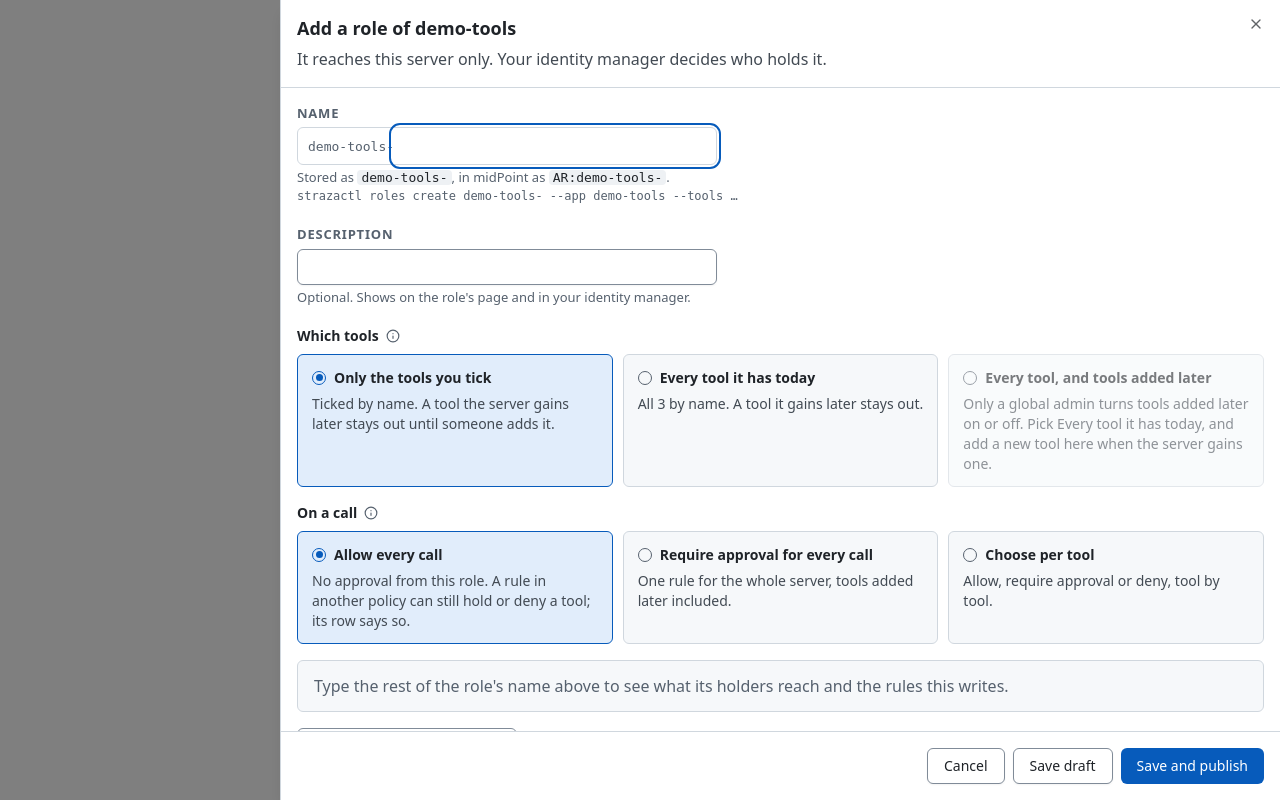
Test: the Add role sheet of a server › refuses Save draft over the buttons when the check answers the name as a live role, and stores nothing
Type "readers" into the field named "role name suffix". click: (555, 146)
box: top-left (394, 128), bottom-right (716, 164)
(page scrolled)
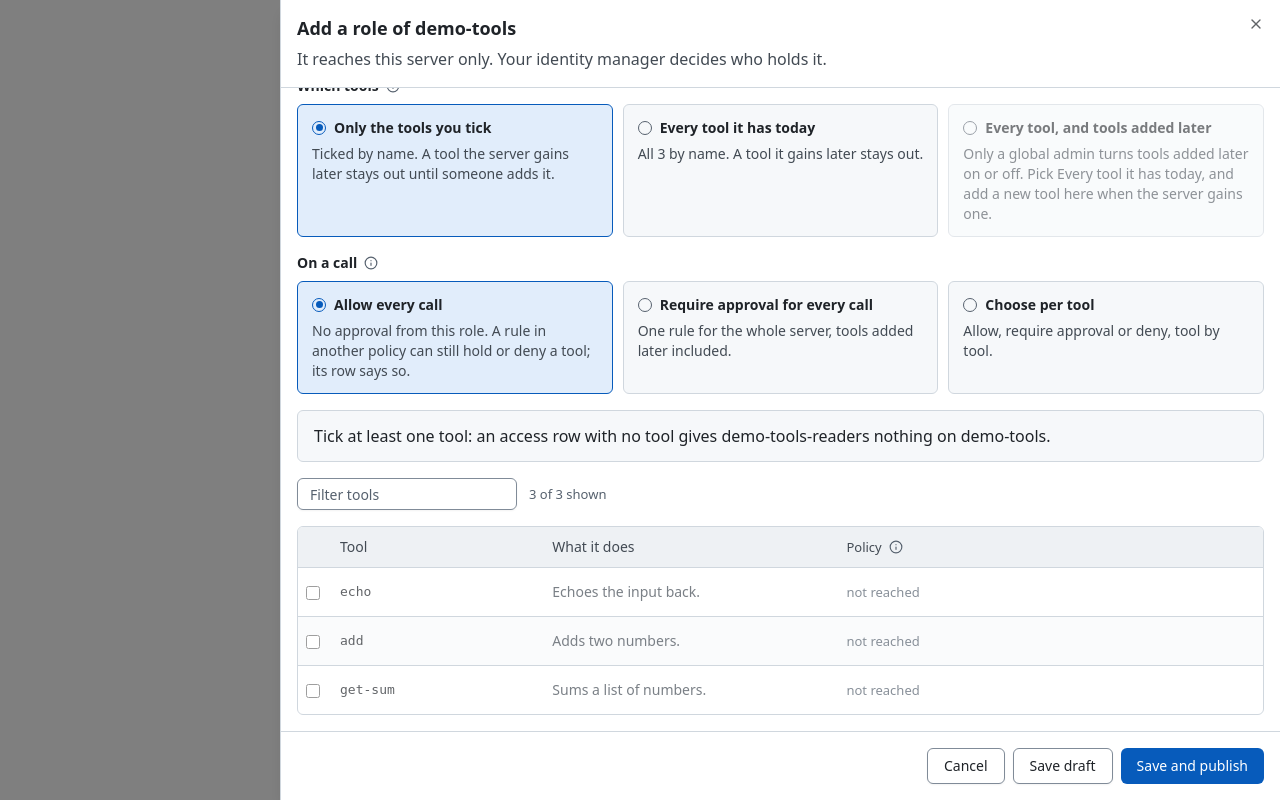
Click the checkbox named "tool echo". click: (313, 593)
box: top-left (306, 586), bottom-right (320, 600)
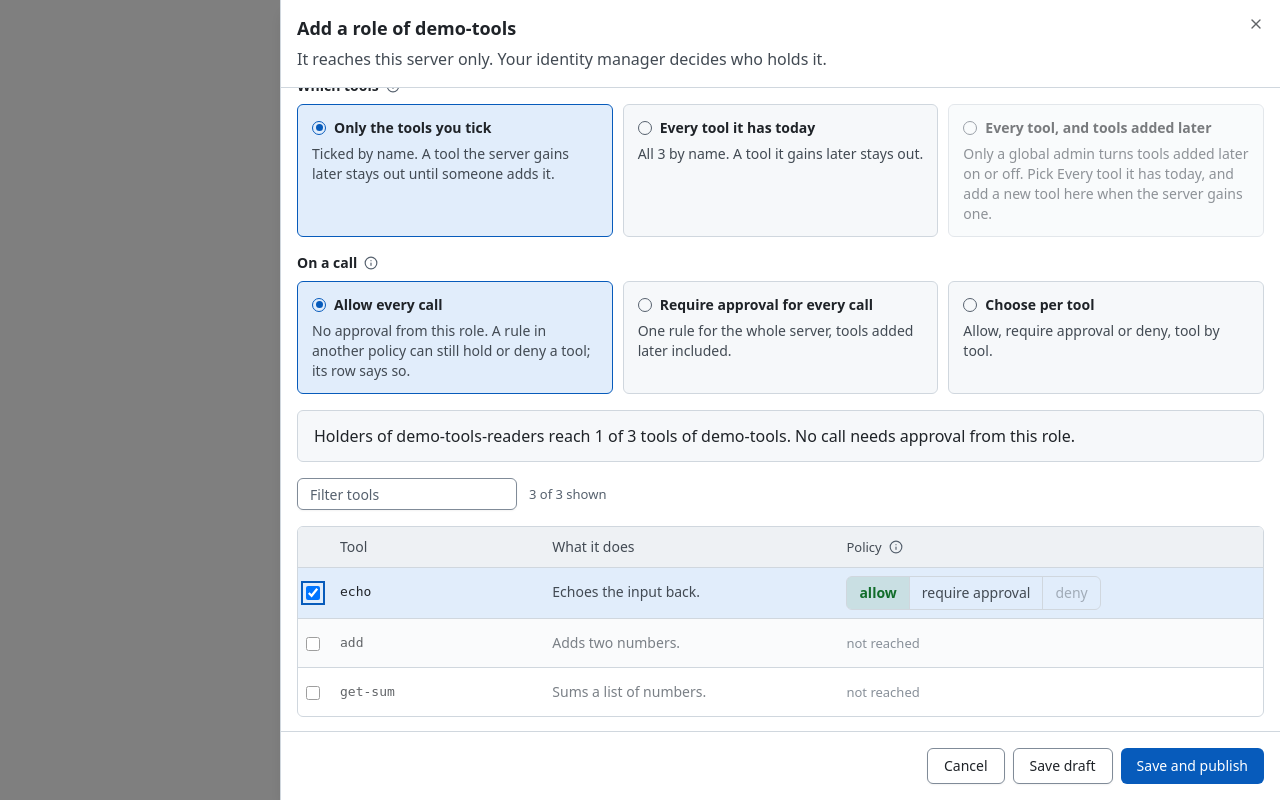
Click the button "Save draft". click: (1063, 766)
box: top-left (1013, 748), bottom-right (1113, 784)
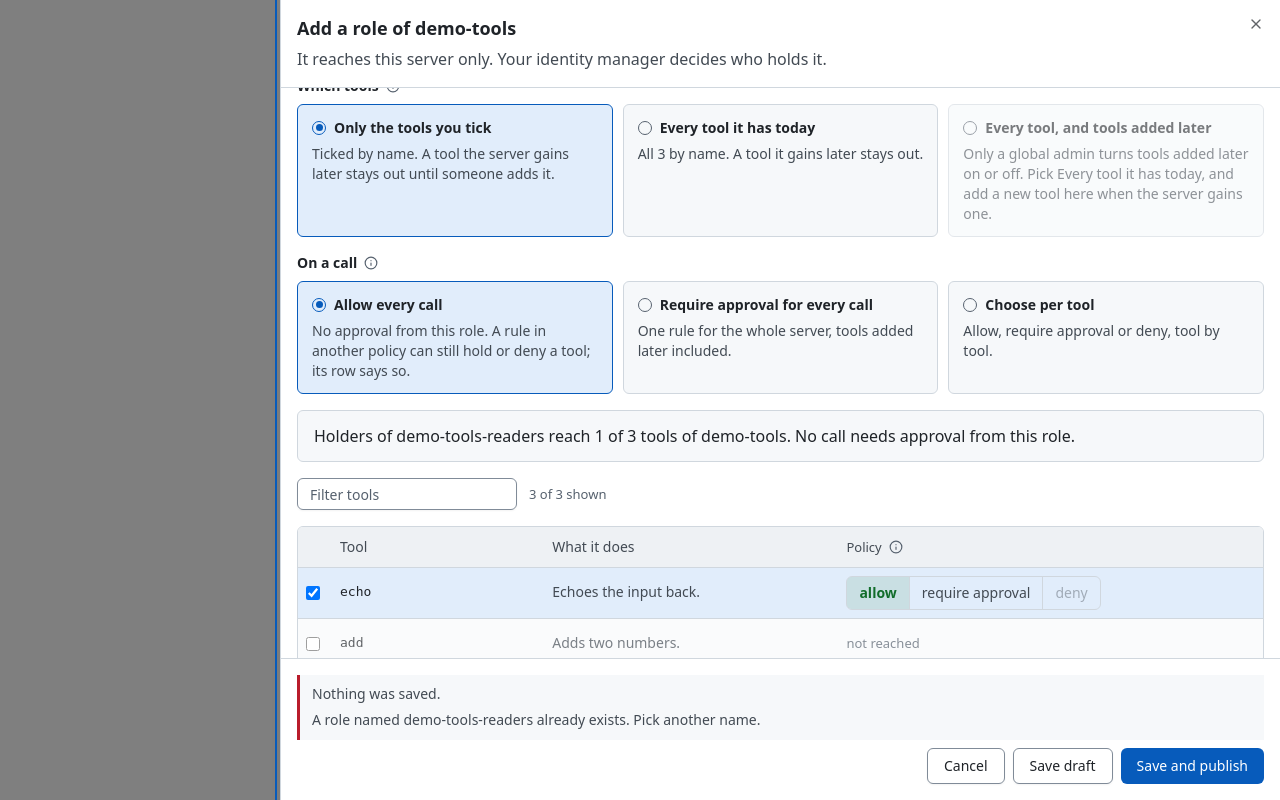
expect the element that starts with "Nothing was saved." is shown: met, box top-left (281, 658), bottom-right (1279, 799)
expect the message is shown: met, box top-left (297, 674), bottom-right (1264, 740)
